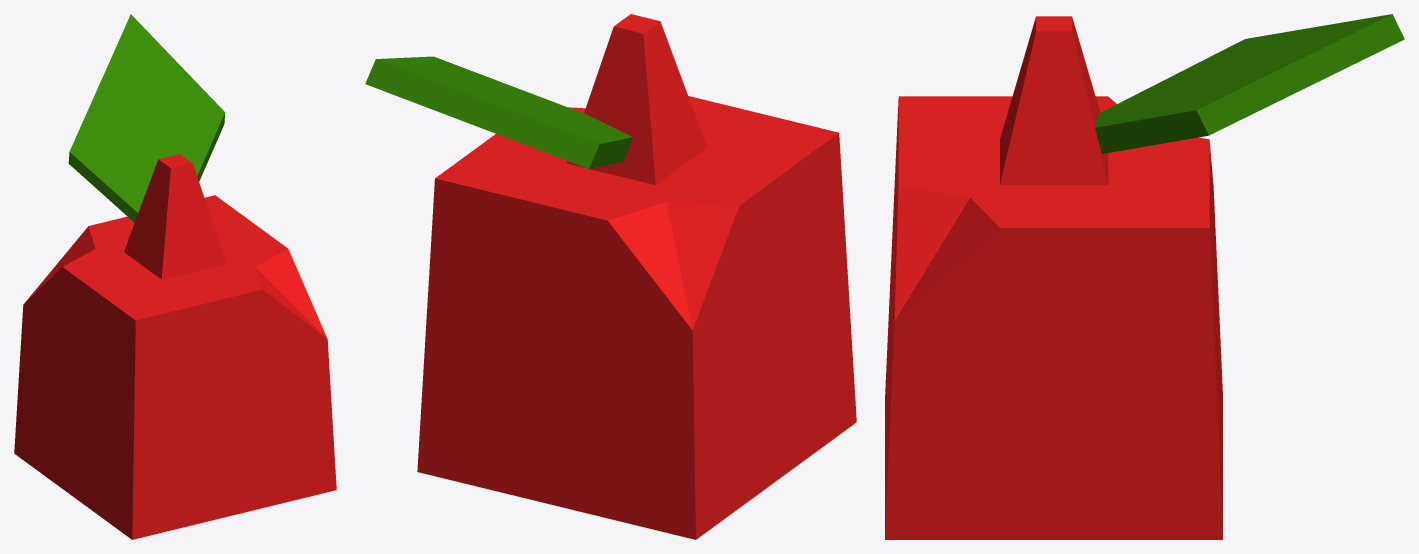
Rendered from Fruit_3.FBX.
3 views of the same model, side by side, from view 1: azimuth 30°, elevation 25°; view 2: azimuth 150°, elevation 25°; view 3: azimuth 270°, elevation 25° (orthographic). The views are drawn at different scales.
Parts seen in each view (by area): view 1: Box476, Box477; view 2: Box476, Box477; view 3: Box476, Box477.
Boxes of the visible parts, <box> form: Box476: <box>14,154,336,539</box>; Box477: <box>68,14,225,222</box>; Box476: <box>417,14,856,539</box>; Box477: <box>365,56,632,168</box>; Box476: <box>885,16,1222,539</box>; Box477: <box>1095,14,1404,153</box>.
Size of the model in its own units: 19.76 by 32.51 by 30.27.
